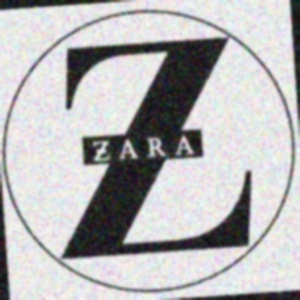zara: (155, 66, 242, 198)
